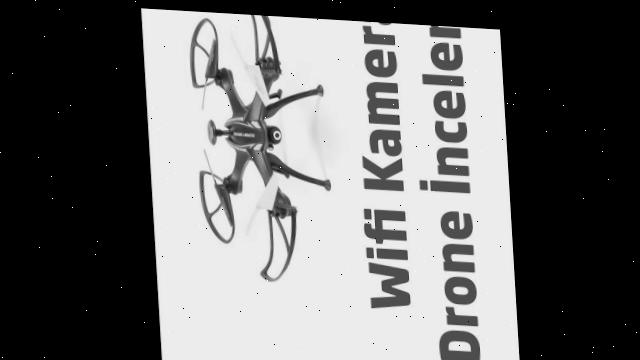drone: (182, 8, 334, 296)
